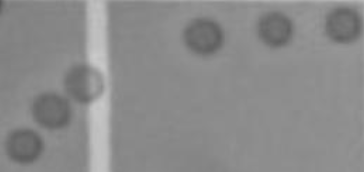cell: (57, 58, 109, 106), (176, 13, 228, 58), (27, 87, 74, 133), (2, 123, 46, 167), (253, 6, 295, 51), (319, 4, 364, 46)
